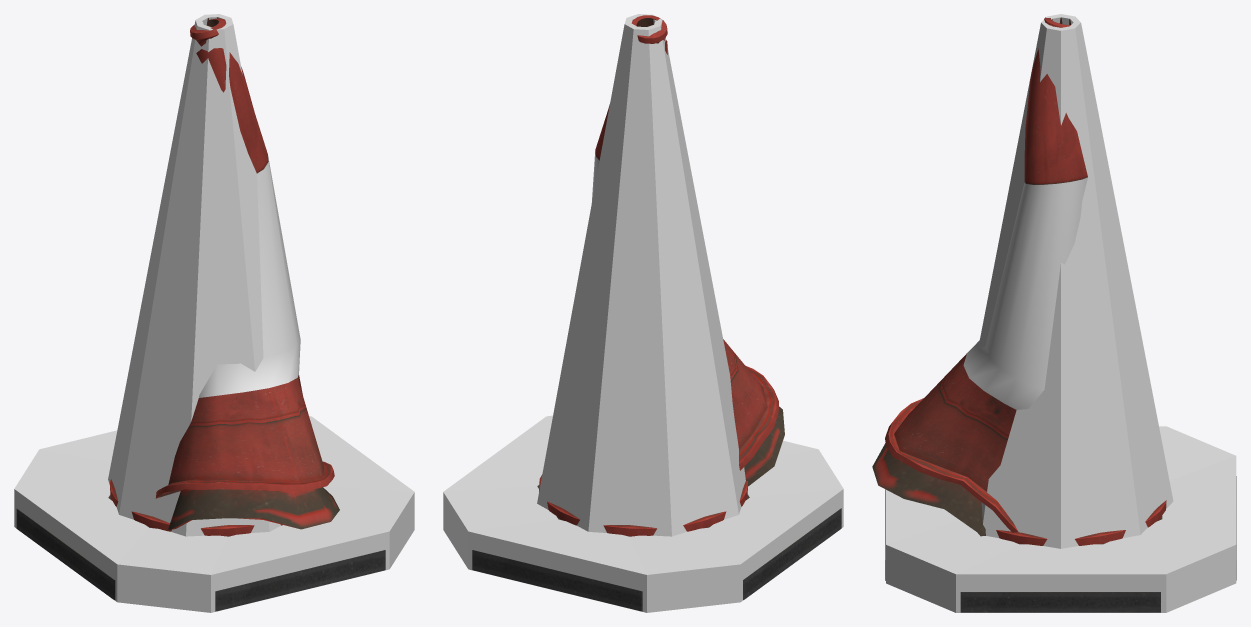
The model's file is traffic_cone.fbx.
The picture shows the model from 3 angles, left to right: view 1: azimuth 30°, elevation 25°; view 2: azimuth 150°, elevation 25°; view 3: azimuth 270°, elevation 25°; orthographic projection. The views are drawn at different scales.
Parts seen in each view (by area): view 1: traffic_cone_phys01, traffic_cone_phys02, traffic_cone_gib01, traffic_cone_lod0, traffic_cone_gib03; view 2: traffic_cone_phys01, traffic_cone_phys02, traffic_cone_gib01, traffic_cone_lod0, traffic_cone_gib02, traffic_cone_gib03; view 3: traffic_cone_phys01, traffic_cone_gib01, traffic_cone_phys02, traffic_cone_gib02, traffic_cone_lod0.
Boxes of the visible parts, bbox=[...] form: traffic_cone_phys01: bbox=[108, 14, 280, 536]; traffic_cone_phys02: bbox=[14, 416, 414, 612]; traffic_cone_gib01: bbox=[155, 18, 339, 529]; traffic_cone_lod0: bbox=[16, 17, 384, 610]; traffic_cone_gib03: bbox=[16, 495, 384, 611]; traffic_cone_phys01: bbox=[537, 14, 745, 536]; traffic_cone_phys02: bbox=[443, 415, 843, 612]; traffic_cone_gib01: bbox=[592, 15, 784, 486]; traffic_cone_lod0: bbox=[473, 21, 841, 610]; traffic_cone_gib02: bbox=[472, 485, 641, 611]; traffic_cone_gib03: bbox=[641, 495, 841, 611]; traffic_cone_phys01: bbox=[978, 14, 1173, 548]; traffic_cone_gib01: bbox=[872, 17, 1087, 536]; traffic_cone_phys02: bbox=[886, 426, 1236, 612]; traffic_cone_gib02: bbox=[885, 477, 1236, 612]; traffic_cone_lod0: bbox=[885, 18, 1236, 612].
Size of what is drawn, in the model's own units: 17.04 by 27.83 by 17.66.
2 materials, 1 textured.
